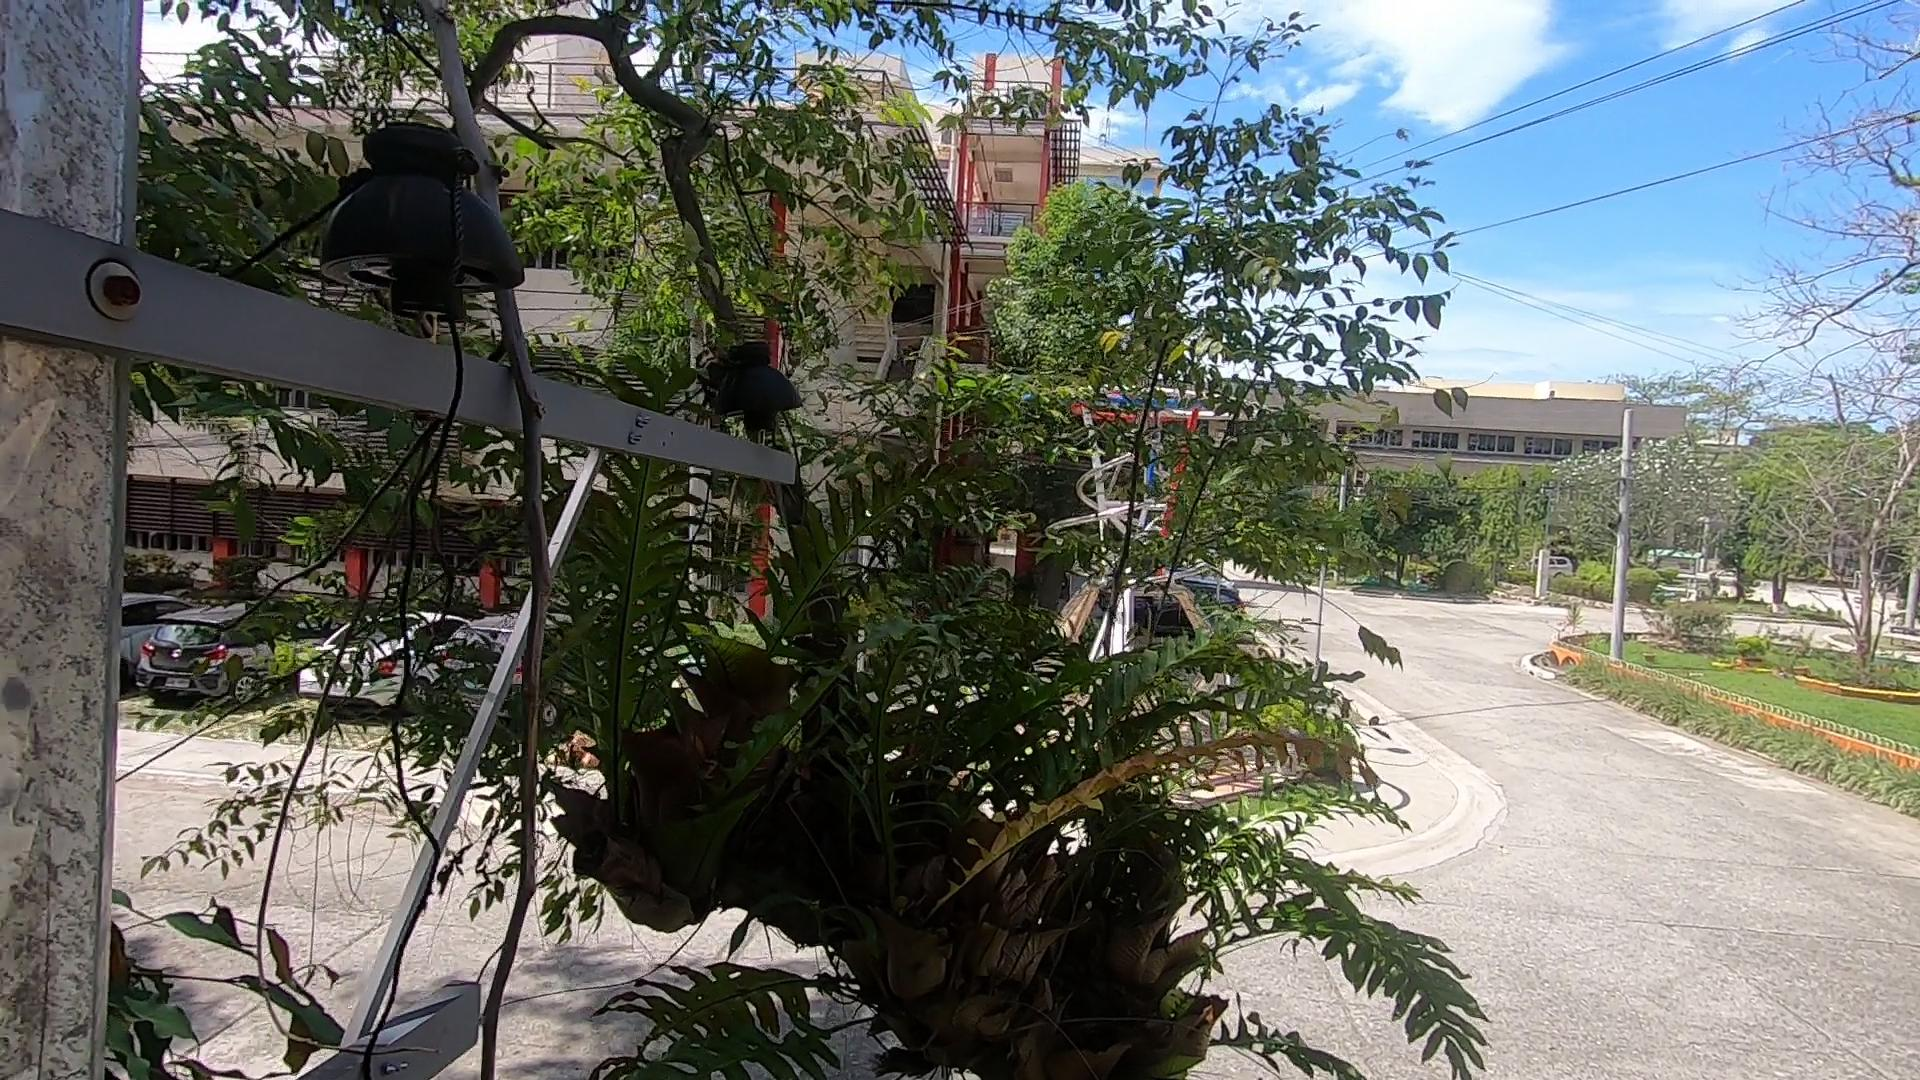tree branch: (351, 3, 622, 1080)
